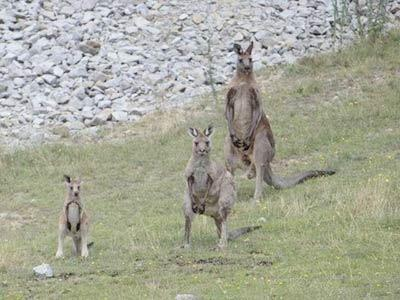kangaroo: (220, 40, 338, 191), (172, 123, 263, 250), (50, 170, 102, 262)
